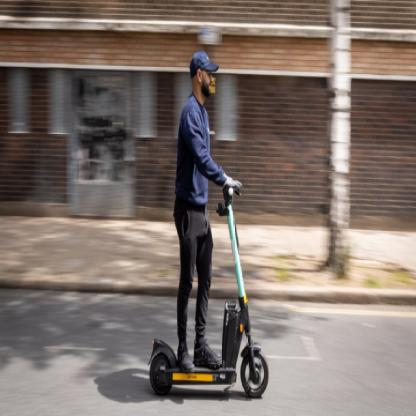scooter: (148, 180, 269, 400)
